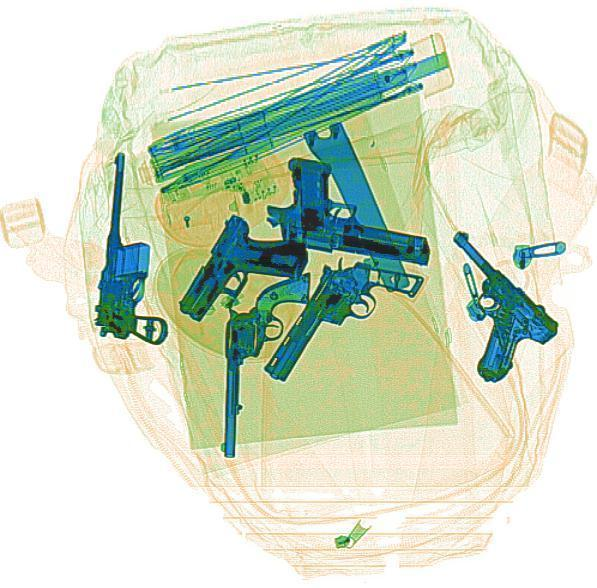Gun: (255, 235, 425, 413), (389, 225, 566, 387), (169, 207, 317, 349), (258, 153, 439, 263), (220, 267, 310, 460), (90, 150, 179, 342)
